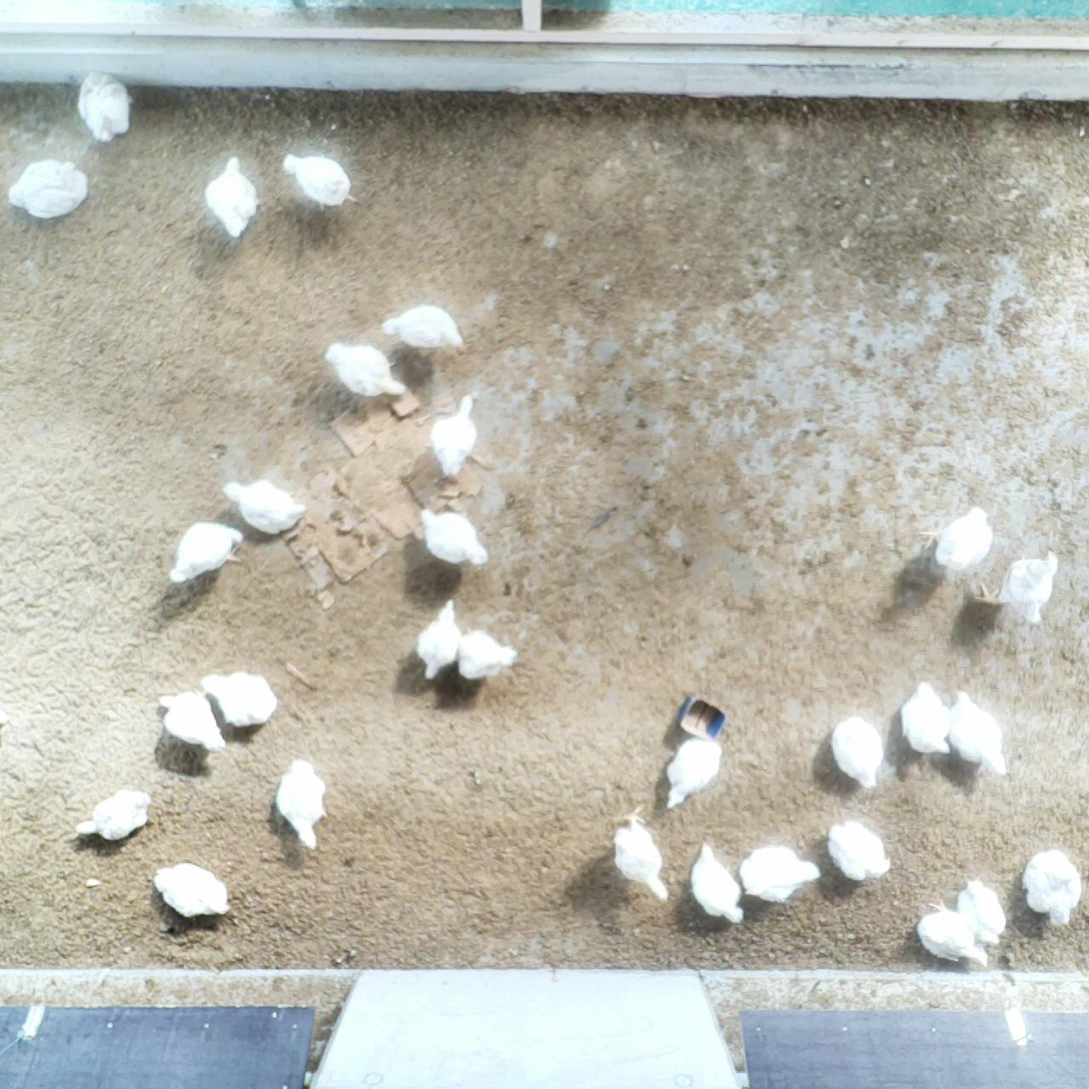chicken: (971, 544, 1061, 628), (609, 802, 674, 903), (919, 505, 994, 584), (947, 684, 1010, 777), (6, 155, 93, 221), (167, 521, 247, 591), (272, 757, 333, 847), (219, 477, 309, 537), (319, 338, 407, 399), (197, 667, 282, 730), (739, 841, 822, 905), (279, 147, 360, 212), (688, 841, 747, 927), (916, 897, 989, 966), (822, 816, 894, 883), (206, 150, 260, 239), (149, 861, 234, 917), (428, 393, 483, 479), (1021, 847, 1080, 927), (155, 689, 227, 754), (664, 734, 724, 812), (414, 503, 487, 567), (74, 787, 154, 843), (77, 69, 135, 146), (828, 714, 886, 790), (377, 305, 463, 355), (899, 678, 954, 755), (449, 627, 518, 684), (414, 596, 460, 681), (955, 875, 1008, 947)
